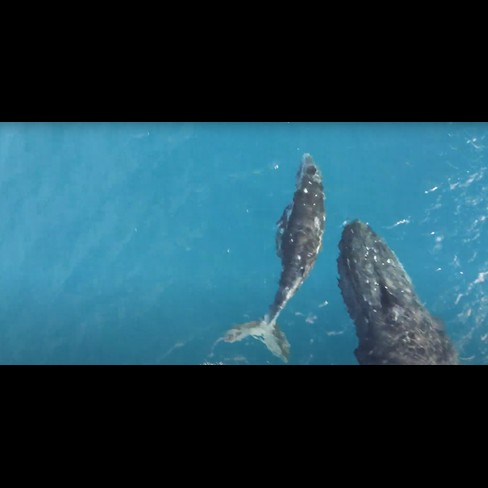hump: (220, 147, 328, 363), (331, 216, 461, 366)
